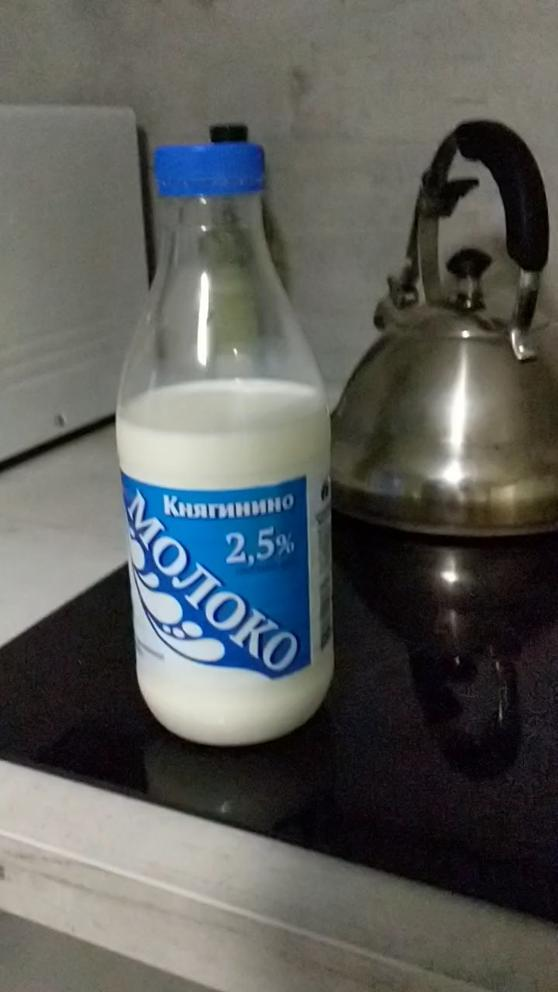milk: (107, 137, 346, 752)
